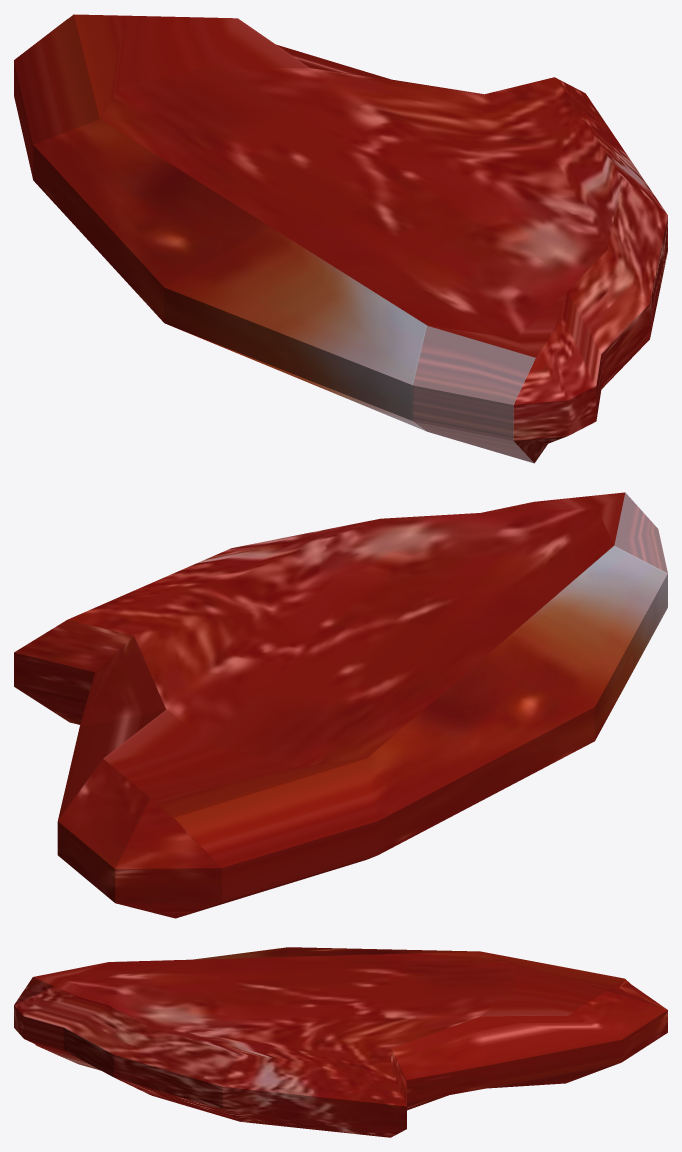
The model's file is RedMeat.fbx.
3 views of the same model, one above another, from view 1: azimuth 30°, elevation 25°; view 2: azimuth 150°, elevation 25°; view 3: azimuth 270°, elevation 25° (orthographic). The views are drawn at different scales.
Visible parts, largest first — view 1: 立方体; view 2: 立方体; view 3: 立方体.
Part boxes in pixels (x1,y1,x2,y2): 立方体: (14,14,667,463); 立方体: (14,492,667,918); 立方体: (14,947,667,1137).
Size of the model in its own units: 219 by 43.76 by 381.
Materials: 1 (1 with a texture image).
